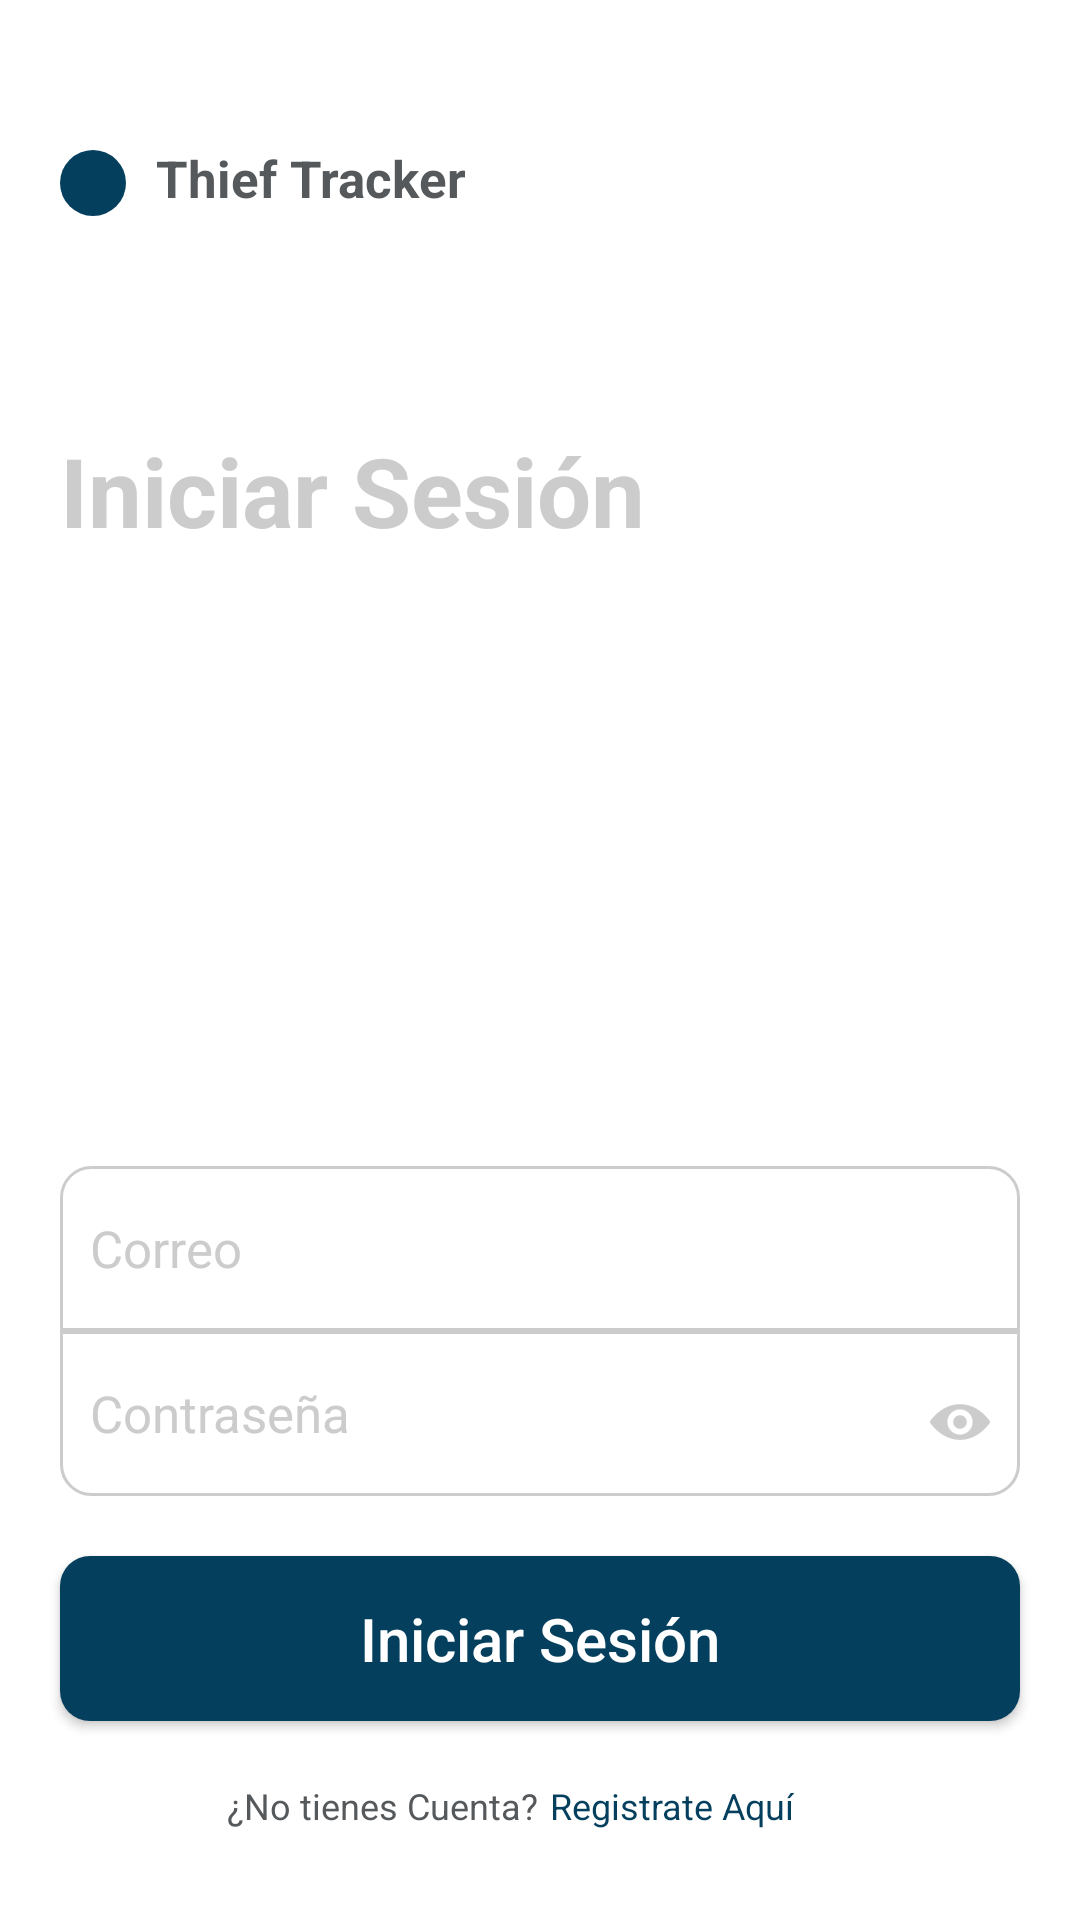

Screen size 1080px×1920px. Icon name, then its box in pixels as (x1, y1, x2, y2):
eye: (930, 1404, 990, 1440)
